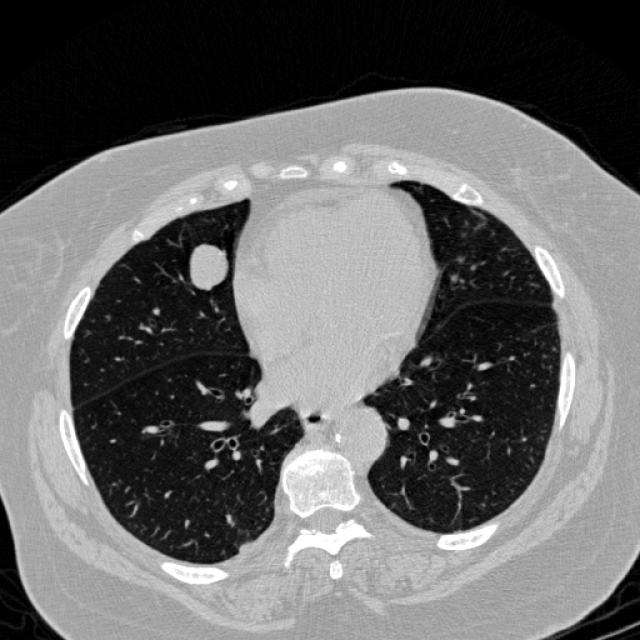nodule: (165, 224, 247, 306)
